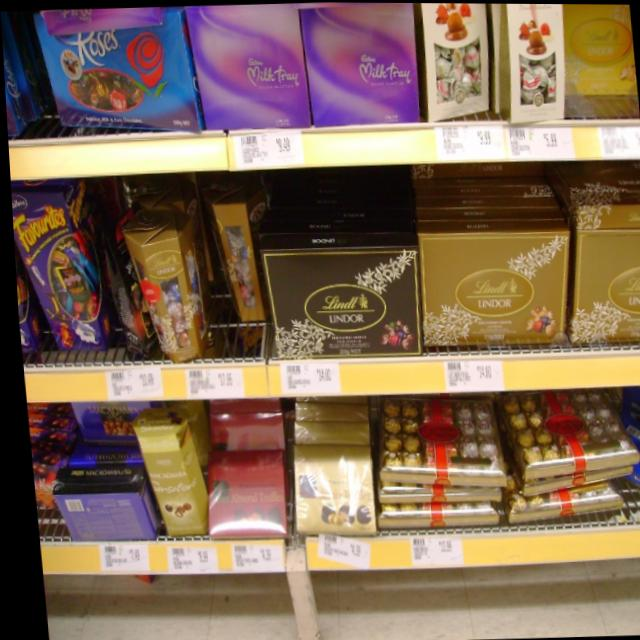q256: (26, 4, 201, 142)
